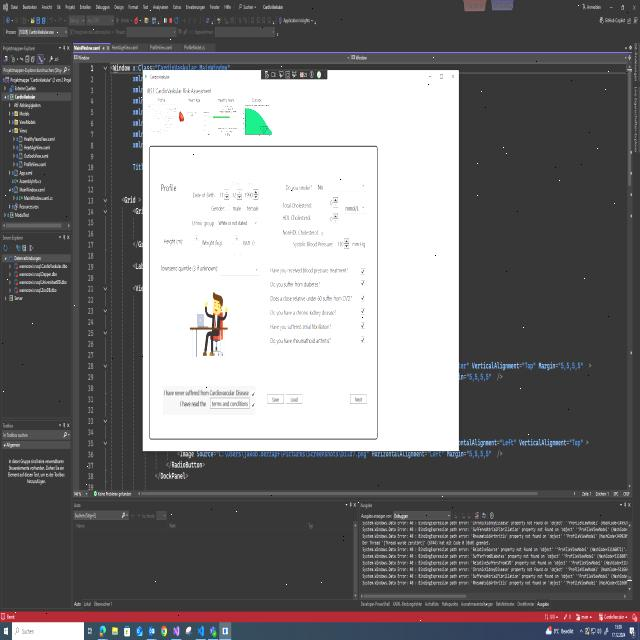button: (210, 396, 250, 412), (348, 390, 368, 407), (285, 390, 304, 407), (266, 392, 285, 407), (424, 71, 436, 83), (436, 71, 448, 83), (448, 70, 459, 83)
checkbox: (359, 265, 366, 276), (360, 306, 366, 318), (359, 278, 366, 288), (360, 320, 366, 331), (360, 334, 366, 345), (250, 389, 256, 399), (360, 293, 366, 303), (250, 400, 256, 409)
dropdownMenu: (314, 178, 368, 194), (216, 214, 260, 230), (220, 262, 260, 278), (343, 200, 369, 216)
input: (12, 621, 84, 640)
label: (269, 262, 350, 276), (163, 386, 250, 397), (270, 294, 354, 304), (268, 321, 332, 333), (269, 335, 332, 347), (145, 85, 213, 96), (159, 262, 218, 274), (269, 307, 337, 317), (292, 240, 334, 252), (269, 279, 323, 288), (282, 227, 325, 237), (280, 198, 313, 210), (279, 212, 312, 223), (178, 398, 208, 410), (162, 232, 184, 248), (191, 216, 215, 230), (285, 182, 313, 194), (191, 188, 216, 200), (201, 235, 223, 248), (159, 178, 179, 192), (220, 250, 243, 258), (150, 73, 172, 81), (215, 95, 237, 103), (210, 203, 226, 214), (243, 236, 255, 249), (246, 202, 260, 213), (352, 238, 366, 249), (185, 96, 202, 104), (230, 177, 242, 188), (248, 95, 264, 103), (154, 95, 168, 104), (232, 203, 242, 215), (185, 250, 200, 258), (219, 178, 229, 189), (244, 178, 255, 188)
radio: (241, 201, 246, 214), (227, 202, 232, 212)
upDown: (316, 196, 338, 208), (316, 213, 338, 225), (184, 234, 200, 248), (243, 188, 259, 201), (225, 234, 240, 247), (335, 237, 350, 250), (218, 187, 230, 200), (231, 188, 243, 200)
